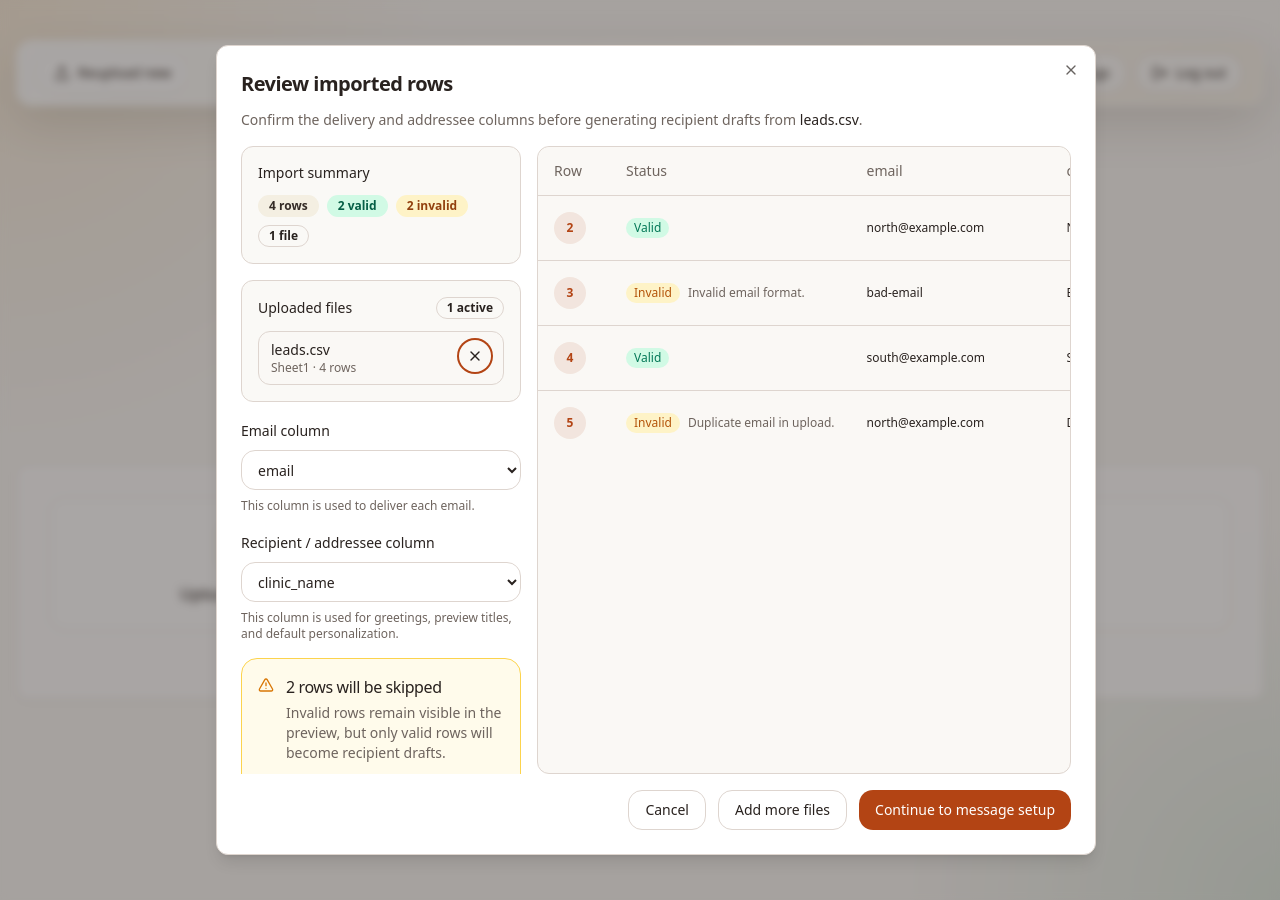
CampaignBuilderPage › prefills the compose dialog with a default campaign message
The width and height of the screenshot is (1280, 900).
Click the button "Continue to message setup".
click(965, 810)  # box x1=859 y1=790 x2=1071 y2=830
(page scrolled)
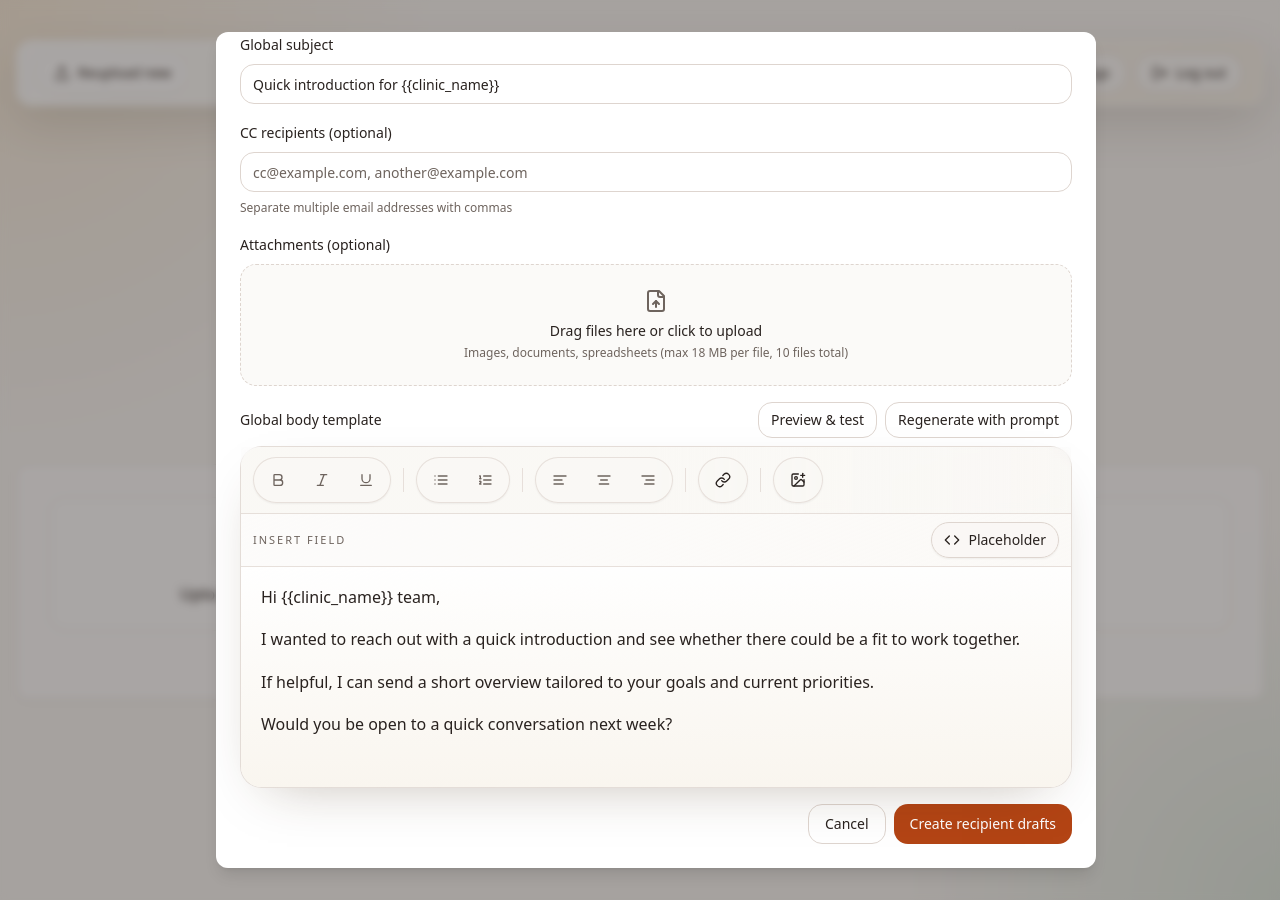
Now the field labelled "Global subject" holds "Quick introduction for {{clinic_name}}", box x1=240 y1=64 x2=1072 y2=104
